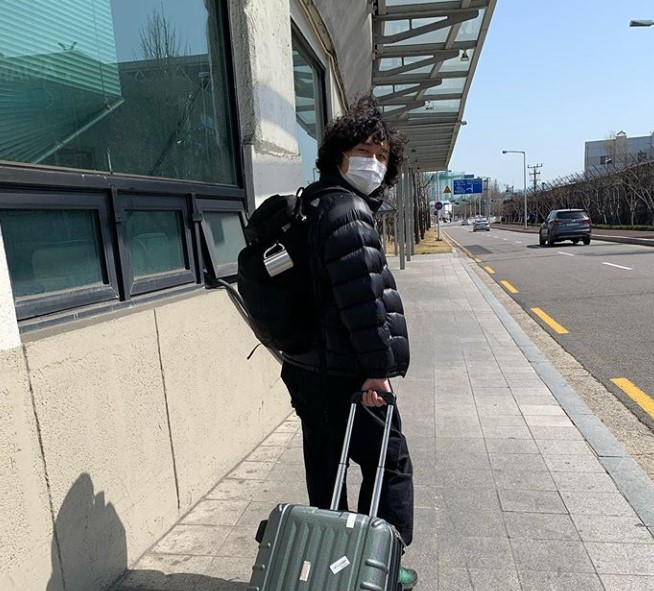face_with_mask: (333, 118, 390, 195)
